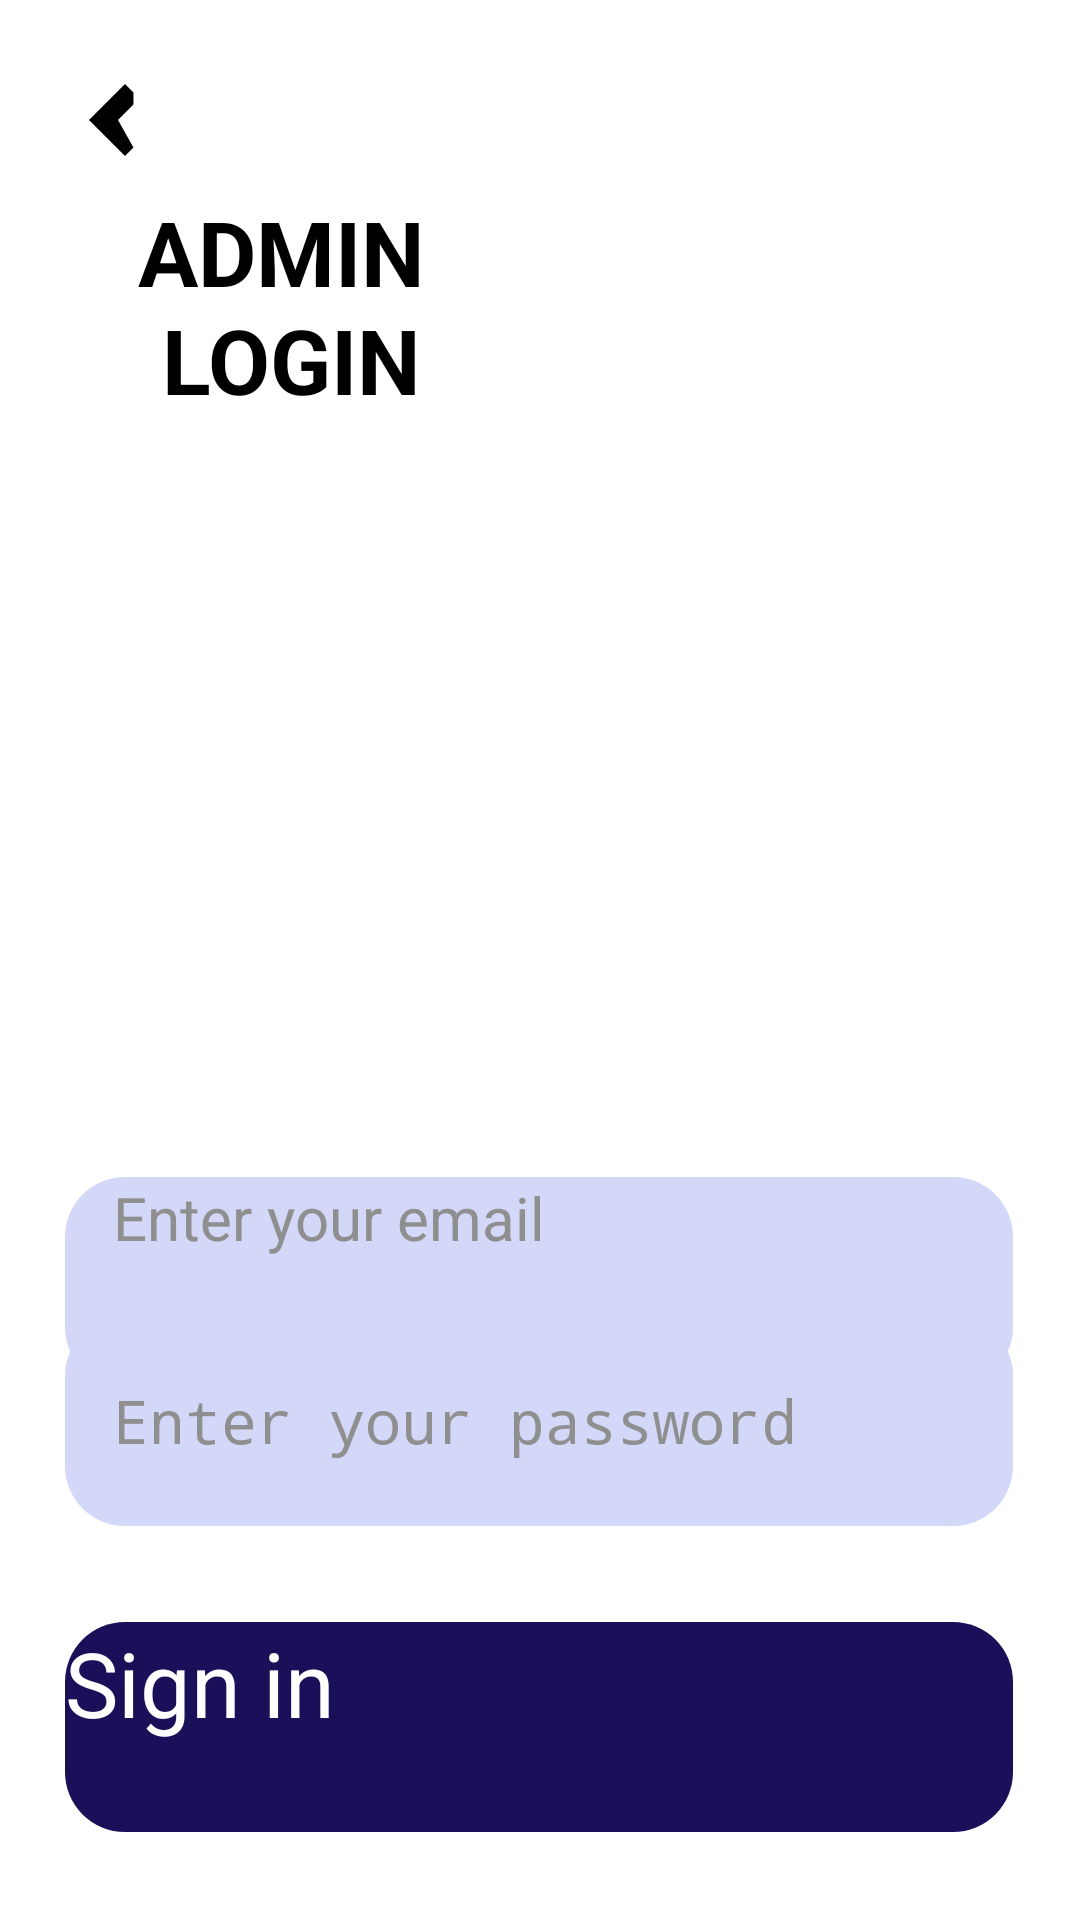

Icons on this 1080x1920 Android screen, each with the point to tap as [x,y]:
back: [111,120]
